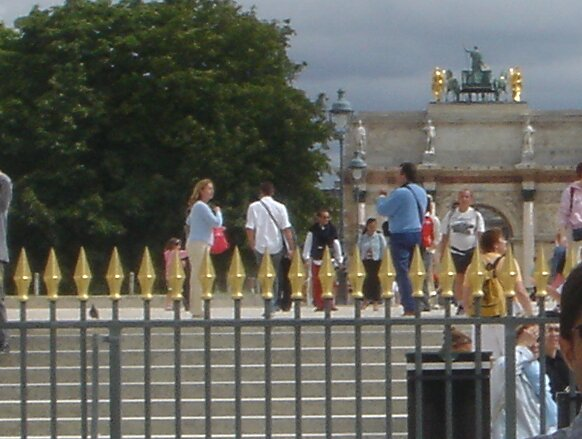person: (379, 158, 431, 316), (182, 178, 219, 313), (245, 185, 287, 297)
